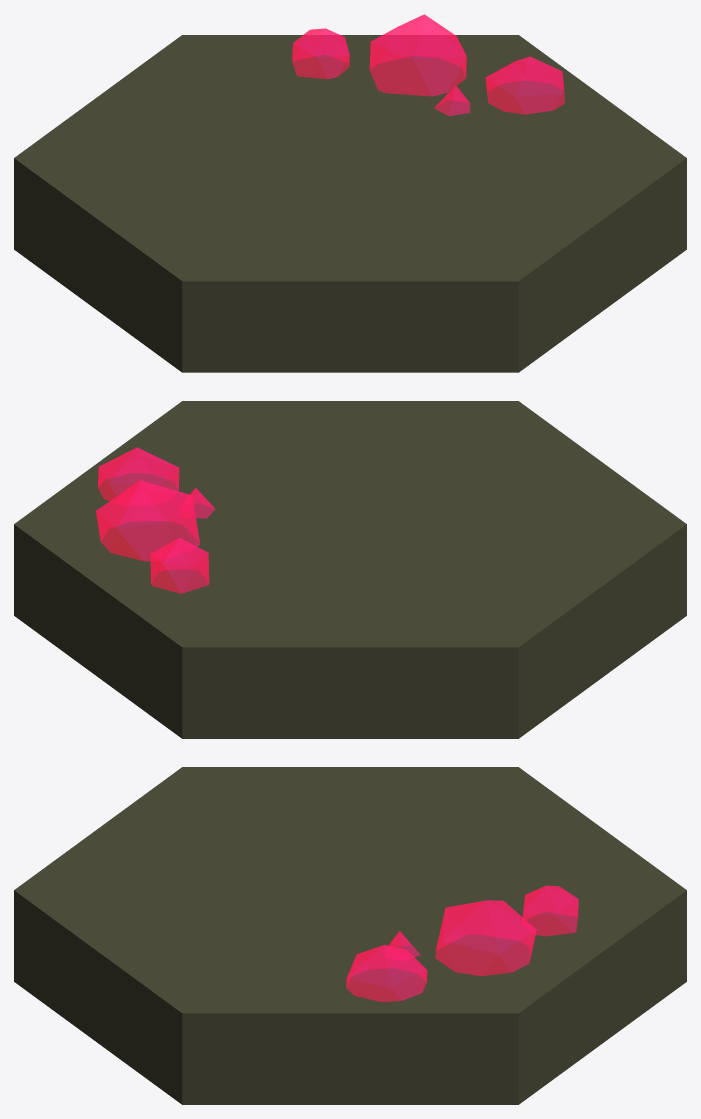
The model's file is GroundUnit(7).fbx.
The picture shows the model from 3 angles, top to bottom: view 1: azimuth 30°, elevation 25°; view 2: azimuth 150°, elevation 25°; view 3: azimuth 270°, elevation 25°; orthographic projection.
Parts seen in each view (by area): view 1: GroundUnit2.2; view 2: GroundUnit2.2; view 3: GroundUnit2.2.
Boxes of the visible parts, x1,y1,x2,y2 form: GroundUnit2.2: [14, 14, 686, 372]; GroundUnit2.2: [14, 401, 686, 738]; GroundUnit2.2: [14, 767, 686, 1104].
Size of the model in its own units: 173 by 49.43 by 200.
